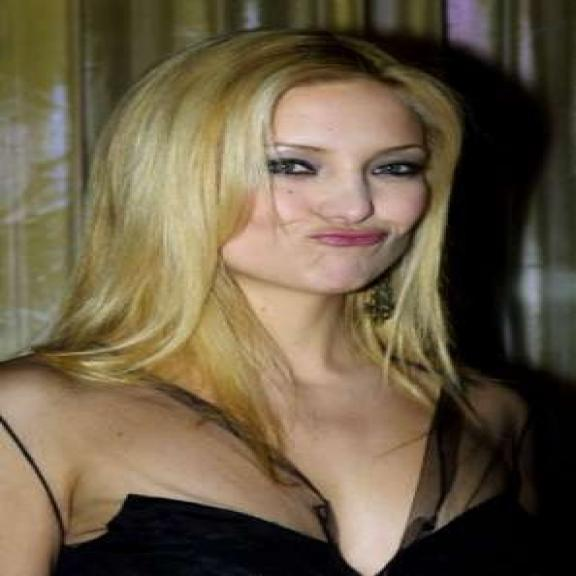face: (238, 73, 433, 302)
